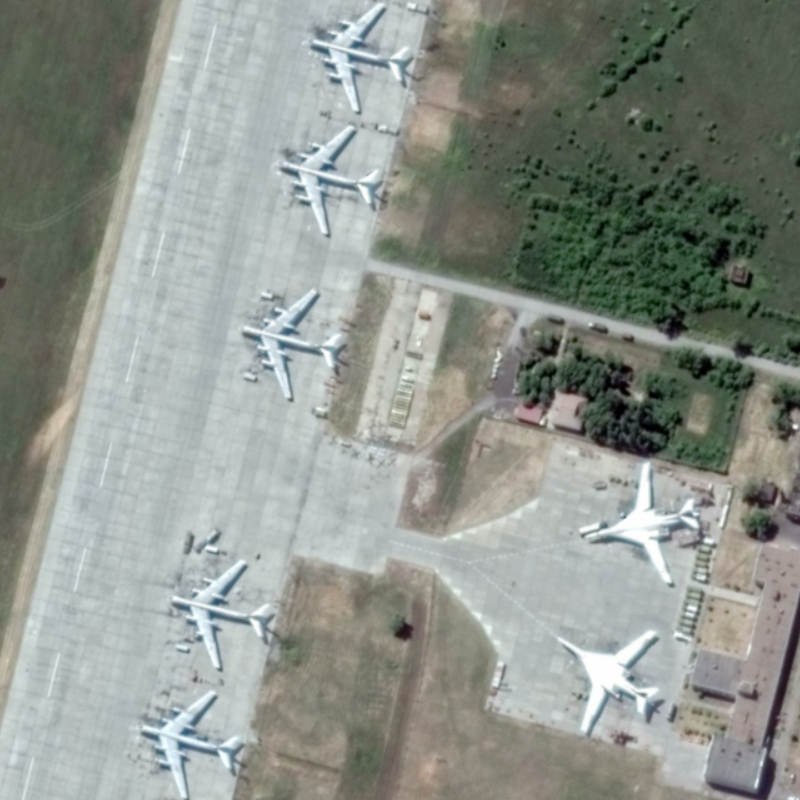A17: (300, 1, 415, 114), (277, 122, 387, 238), (238, 286, 346, 403), (134, 687, 245, 800), (167, 558, 275, 671)
A6: (582, 454, 708, 593), (550, 624, 667, 736)
